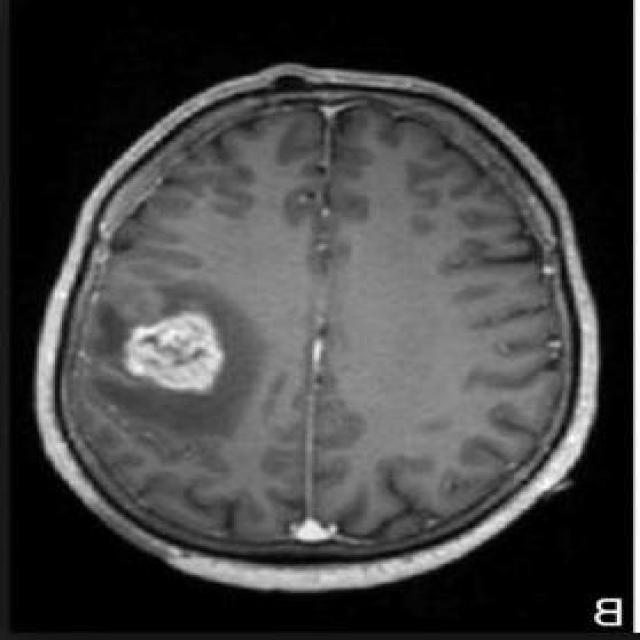Tumor-Cell: (93, 272, 235, 414)
